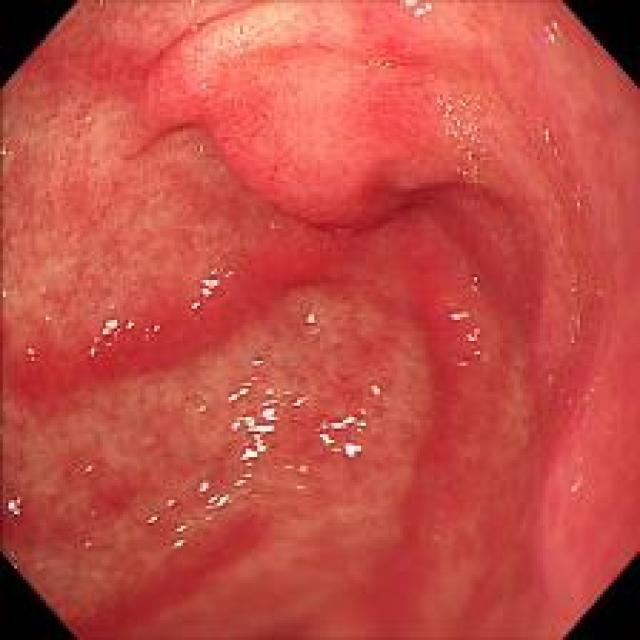bubbles: (448, 301, 488, 366), (301, 309, 324, 341)
color misalignment: (538, 11, 560, 45)
specularity: (215, 366, 292, 475), (75, 282, 156, 355), (436, 94, 485, 182), (316, 404, 365, 469), (182, 255, 234, 314), (285, 462, 310, 492), (4, 486, 26, 520), (170, 521, 189, 554), (401, 1, 434, 18), (202, 495, 232, 512), (230, 474, 259, 488), (246, 356, 266, 372), (294, 391, 310, 409), (24, 345, 38, 362), (550, 21, 560, 44), (196, 479, 211, 494), (160, 495, 176, 509), (145, 511, 161, 524), (541, 124, 552, 142), (195, 400, 208, 415)
